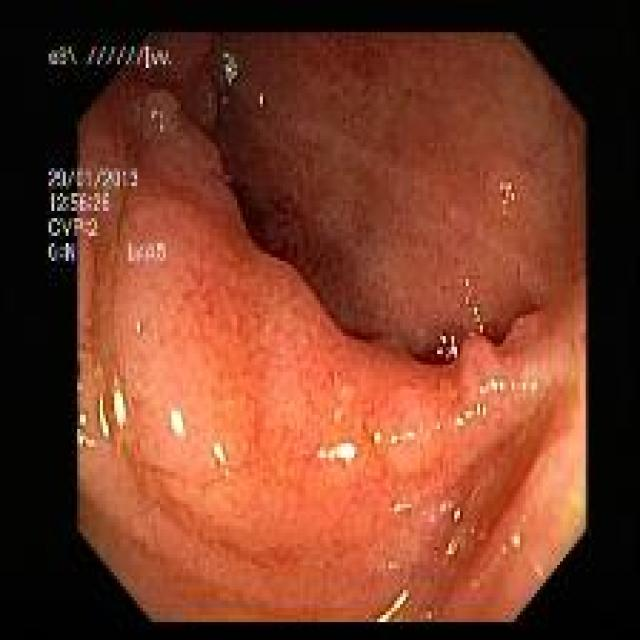ulcerative-colitis: (50, 33, 585, 622)
